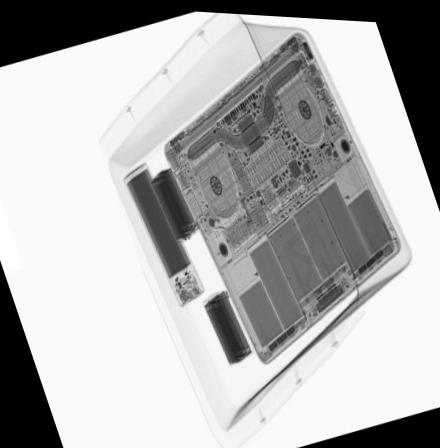Powerbank: (121, 158, 204, 311), (146, 164, 201, 244), (201, 288, 253, 365)
